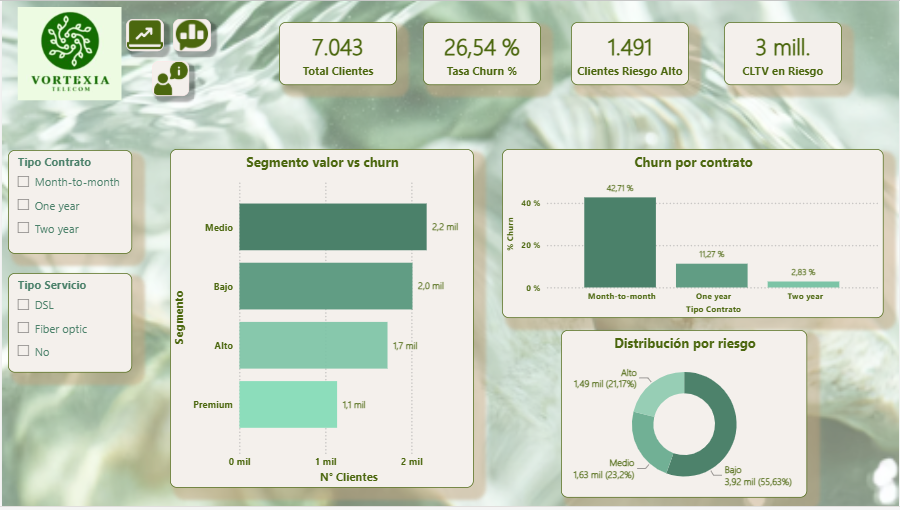

Layout of this report page (visuals, bound fields, positions):
{"tool":"powerbi","page":{"name":"Resumen Ejecutivo","canvas":[1280,720],"ordinal":0},"visuals":[{"type":"image","box":[21.4,8.6,150,132.9],"z":0},{"type":"card","fields":{"Values":["Cálculos.Total Clientes"]},"box":[395.1,30,168.2,90.3],"z":1000},{"type":"card","fields":{"Values":["Cálculos.Tasa Churn %"]},"box":[600.8,30,168.2,90.3],"z":2000},{"type":"card","fields":{"Values":["Cálculos.Clientes Riesgo Alto"]},"box":[810.7,30,168.2,90.3],"z":3000},{"type":"card","fields":{"Values":["Cálculos.CLTV en Riesgo"]},"box":[1028.9,30,168.2,90.3],"z":4000},{"type":"columnChart","title":"Churn por contrato","fields":{"Category":["customers_scored.contract"],"Y":["Cálculos.Tasa Churn %"]},"box":[712.9,211.4,544.3,241.4],"z":5000},{"type":"donutChart","title":"Distribución por riesgo","fields":{"Category":["customers_scored.nivel_riesgo"],"Y":["CountNonNull(customers_scored.nivel_riesgo)"]},"box":[797.1,468.6,351.4,238.6],"z":6000},{"type":"barChart","title":"Segmento valor vs churn","fields":{"Category":["customers_scored.segmento_valor"],"Y":["CountNonNull(customers_scored.churn_label)"]},"box":[240,211.4,432.9,482.9],"z":7000},{"type":"slicer","fields":{"Values":["customers_scored.contract"]},"box":[9.1,212.1,177.3,148.5],"z":8000},{"type":"slicer","fields":{"Values":["customers_scored.internetservice"]},"box":[9.1,387.9,177.3,142.4],"z":9000},{"type":"image","box":[176.9,26.2,54.4,45.6],"z":10000},{"type":"image","box":[244.4,26.1,54.4,45.6],"z":11000},{"type":"image","box":[213.3,85.6,53.3,50],"z":12000}]}

Visuals, with their boxes in screenshot pixels (x1, y1, x2, y2), scaled from the page's 1280x720 canvas onto the 900x510 screenshot:
image: 15 6 121 100
card - Cálculos.Total Clientes: 278 21 396 85
card - Cálculos.Tasa Churn %: 422 21 541 85
card - Cálculos.Clientes Riesgo Alto: 570 21 688 85
card - Cálculos.CLTV en Riesgo: 723 21 842 85
"Churn por contrato" columnChart: 501 150 884 321
"Distribución por riesgo" donutChart: 560 332 808 501
"Segmento valor vs churn" barChart: 169 150 473 492
slicer - customers_scored.contract: 6 150 131 255
slicer - customers_scored.internetservice: 6 275 131 376
image: 124 19 163 51
image: 172 18 210 51
image: 150 61 187 96
